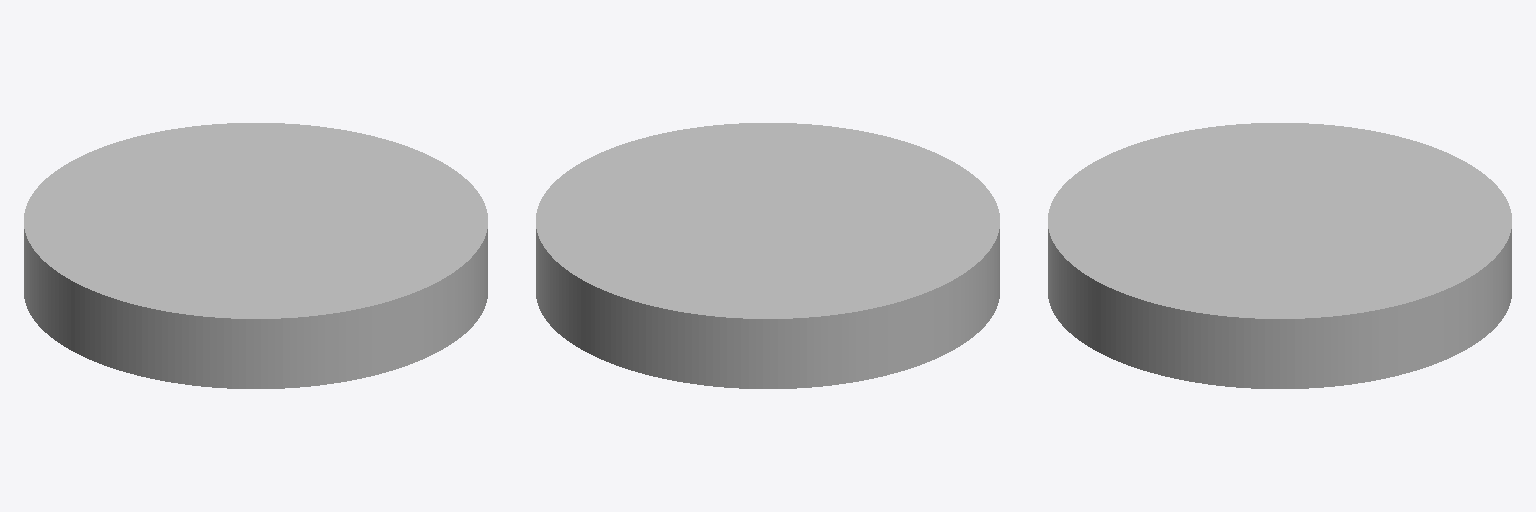
The model's file is layer_wide.obj.
3 views of the same model, side by side, from view 1: azimuth 30°, elevation 25°; view 2: azimuth 150°, elevation 25°; view 3: azimuth 270°, elevation 25° (orthographic).
Visible parts, largest first — view 1: Cylinder; view 2: Cylinder; view 3: Cylinder.
Boxes of the visible parts, <box> form: Cylinder: <box>24,123,487,388</box>; Cylinder: <box>536,123,999,388</box>; Cylinder: <box>1048,123,1511,388</box>.
Size of the model in its own units: 0.06 by 0.01 by 0.06.